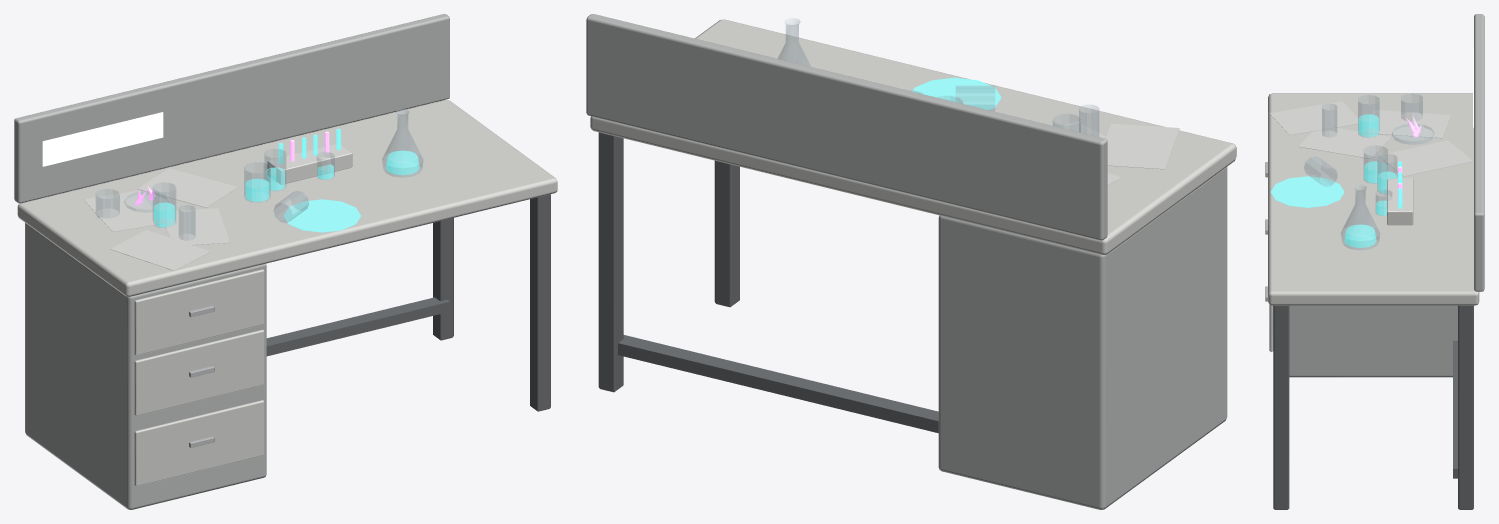
Rendered from lab_table_clutter.glb.
3 renders of one model, left to right at view 1: azimuth 30°, elevation 25°; view 2: azimuth 150°, elevation 25°; view 3: azimuth 270°, elevation 25°, orthographic. The views are drawn at different scales.
Visible parts, largest first — view 1: lab_table_clutter; view 2: lab_table_clutter; view 3: lab_table_clutter.
Boxes of the visible parts, <box> form: lab_table_clutter: <box>14,14,557,509</box>; lab_table_clutter: <box>586,14,1236,509</box>; lab_table_clutter: <box>1265,14,1484,509</box>.
Bounding box in the file's own units: 1.8 × 1.25 × 0.83.
